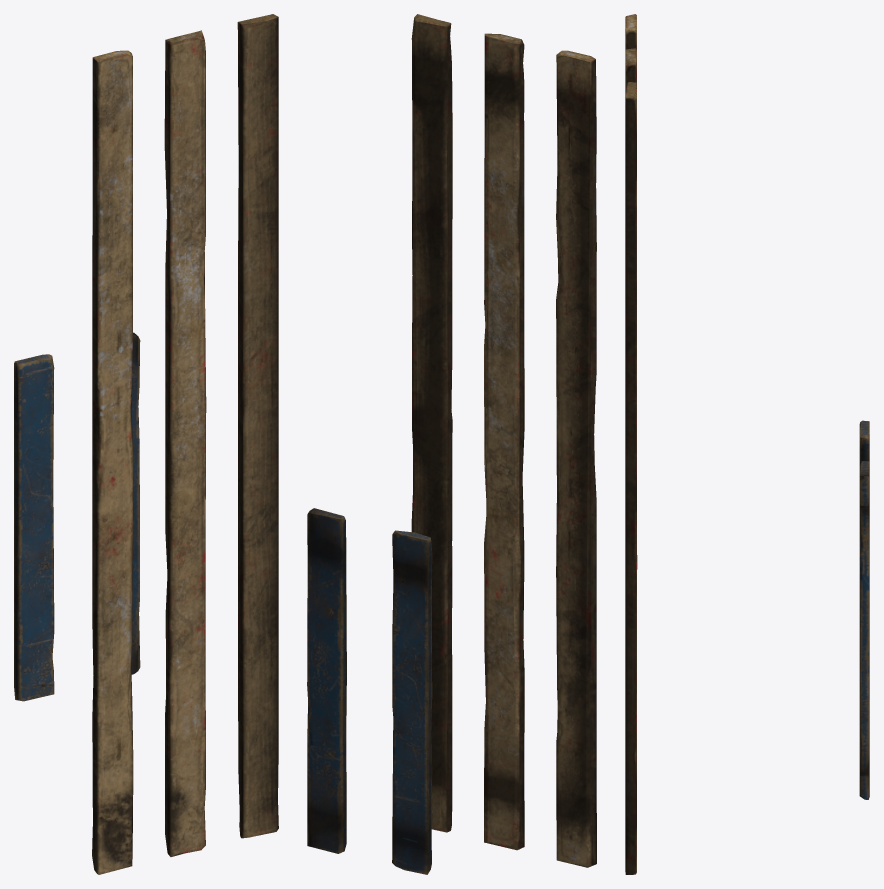
File: Workbench_Group_2_low.obj
3 renders of one model, left to right at view 1: azimuth 30°, elevation 25°; view 2: azimuth 150°, elevation 25°; view 3: azimuth 270°, elevation 25°, orthographic. The views are drawn at different scales.
Size of the model in its own units: 0.5118 by 2.2 by 0.6241.
1 material, 1 textured.
